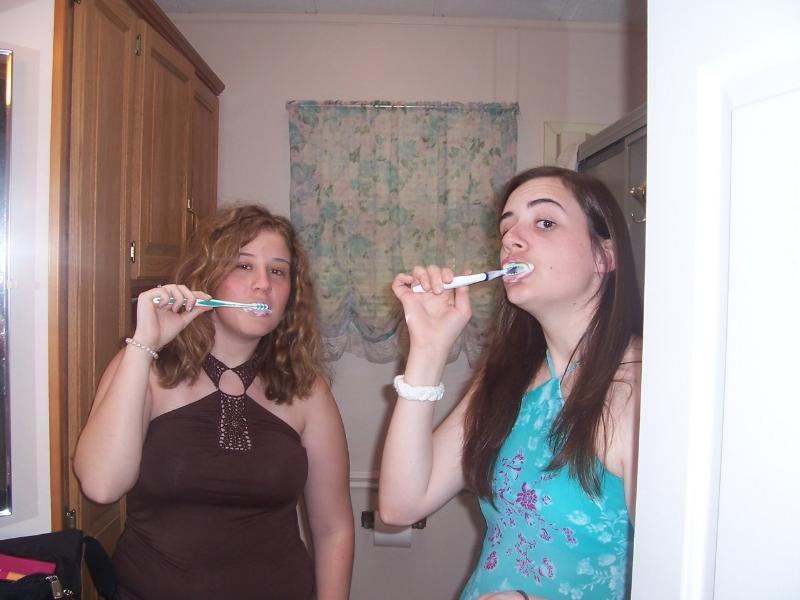person: (75, 203, 359, 600)
